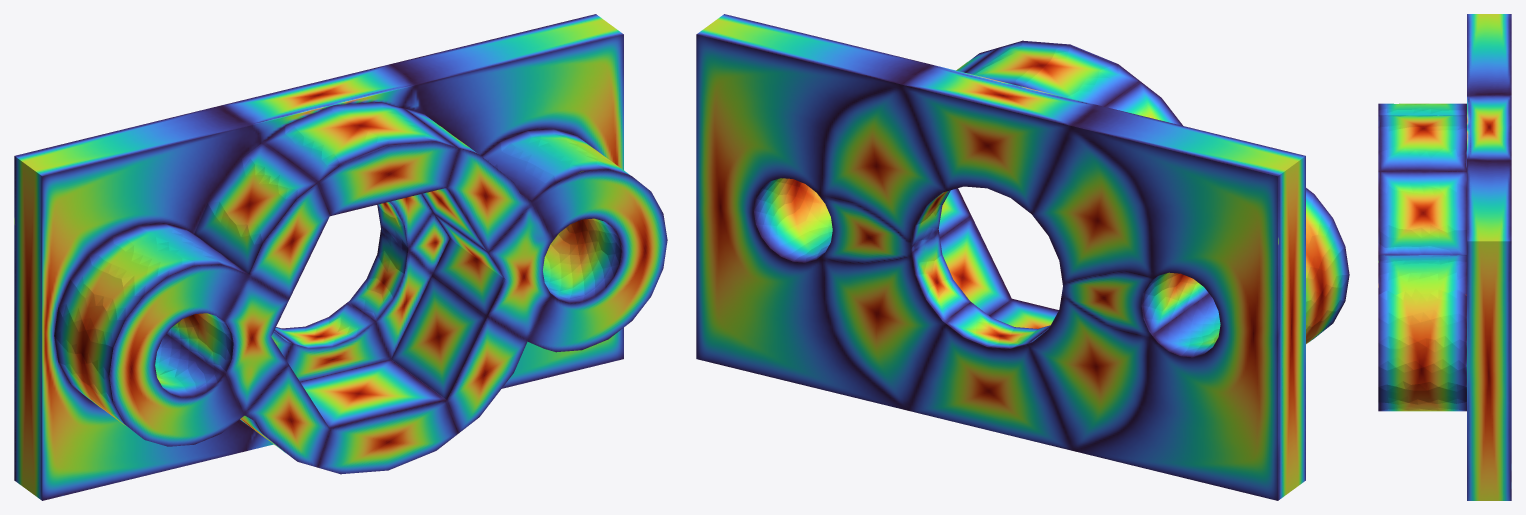
Rendered from gen3.glb.
The picture shows the model from 3 angles, left to right: view 1: azimuth 30°, elevation 25°; view 2: azimuth 150°, elevation 25°; view 3: azimuth 270°, elevation 25°; orthographic projection. The views are drawn at different scales.
Visible parts, largest first — view 1: Node; view 2: Node; view 3: Node.
Part boxes in pixels (x1,y1,x2,y2): Node: [14, 14, 667, 500]; Node: [696, 14, 1349, 500]; Node: [1378, 14, 1511, 500].
Bounding box in the file's own units: 38.1 × 20.32 × 9.45.
Materials: 1 (1 with a texture image).
